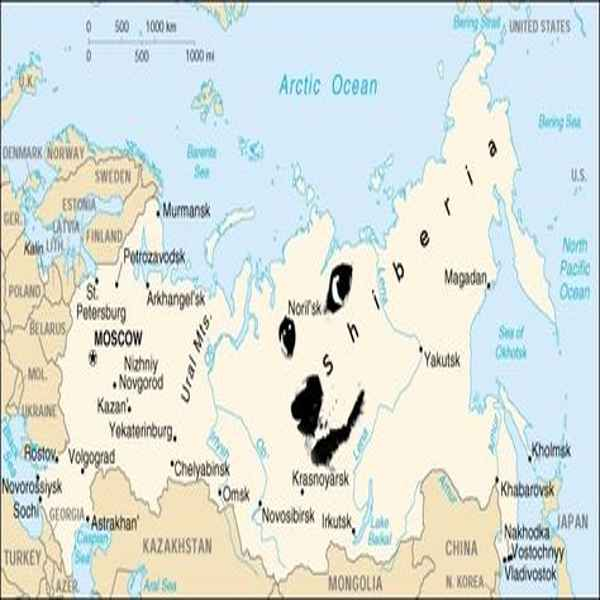doge: (243, 229, 404, 481)
